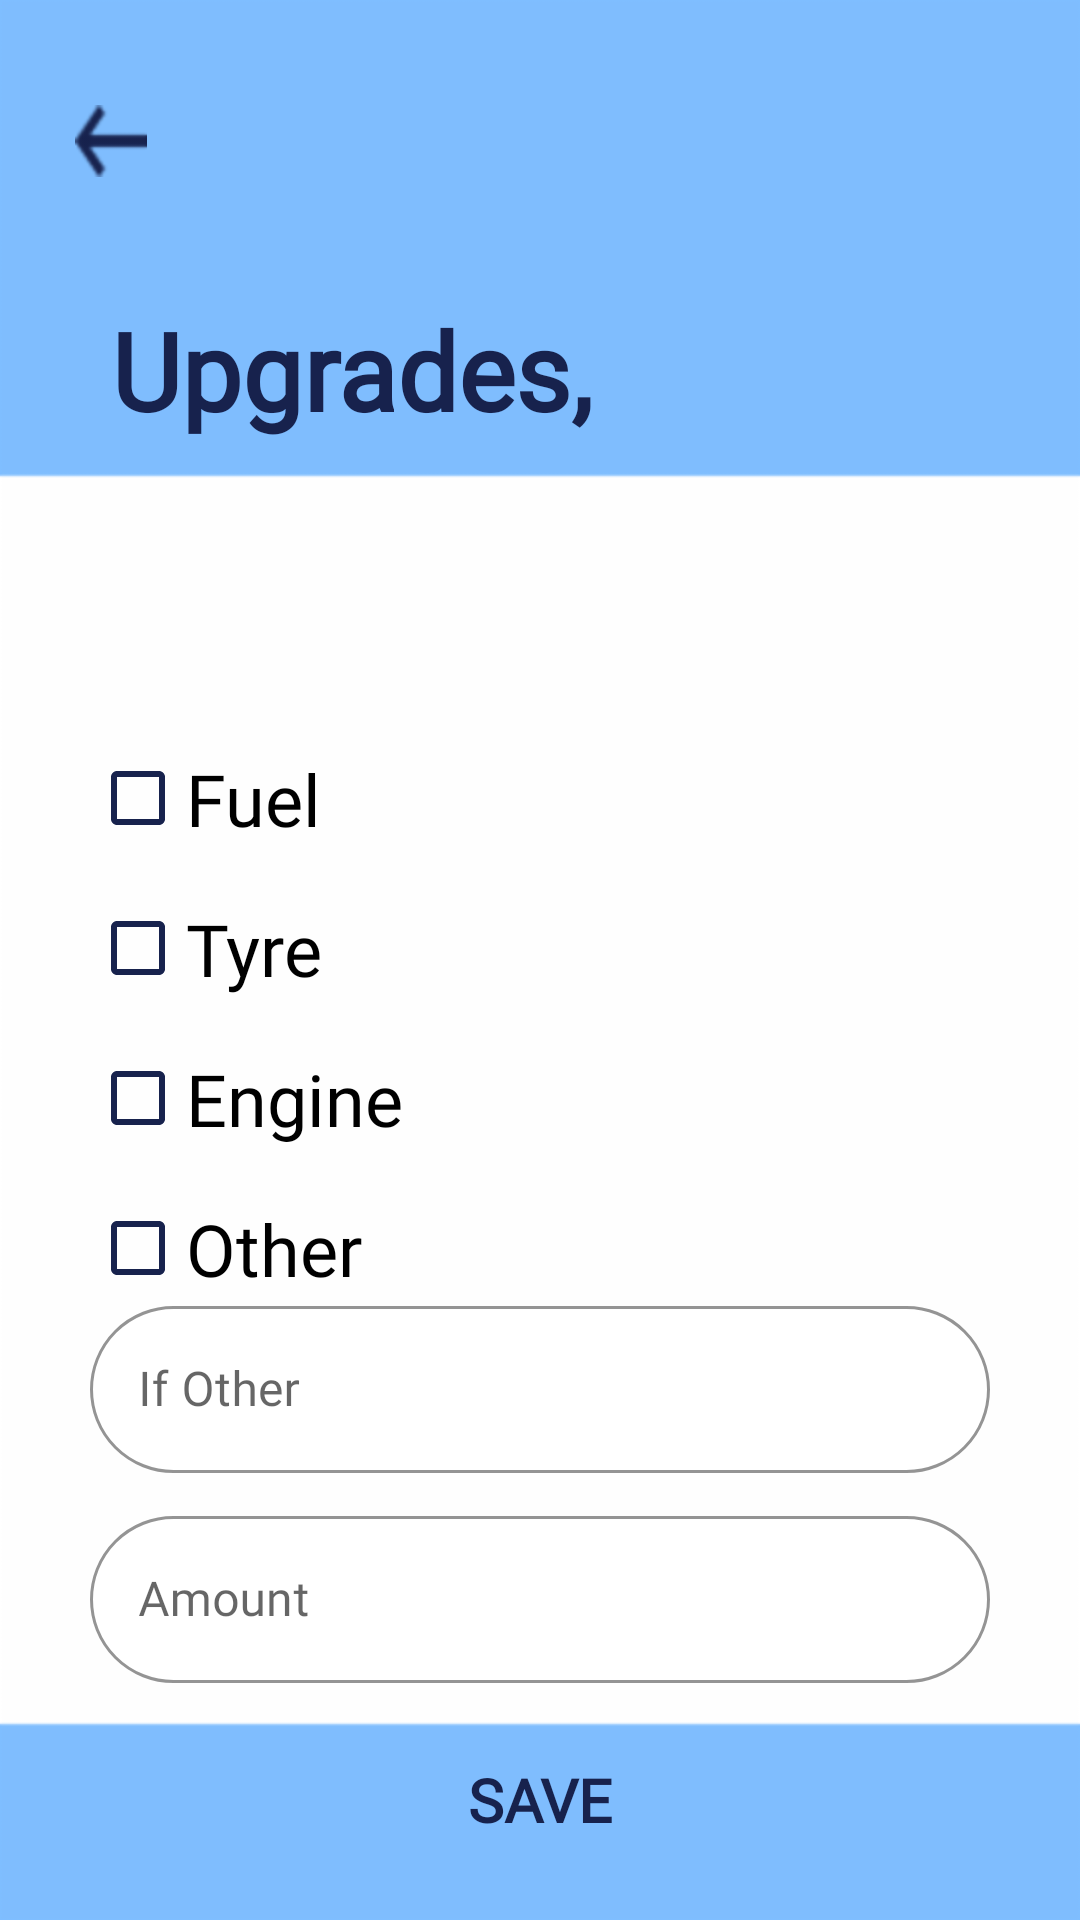

Screen size 1080px×1920px. Icon name, then its center in pixels as (x,y):
back arrow: (111,141)
